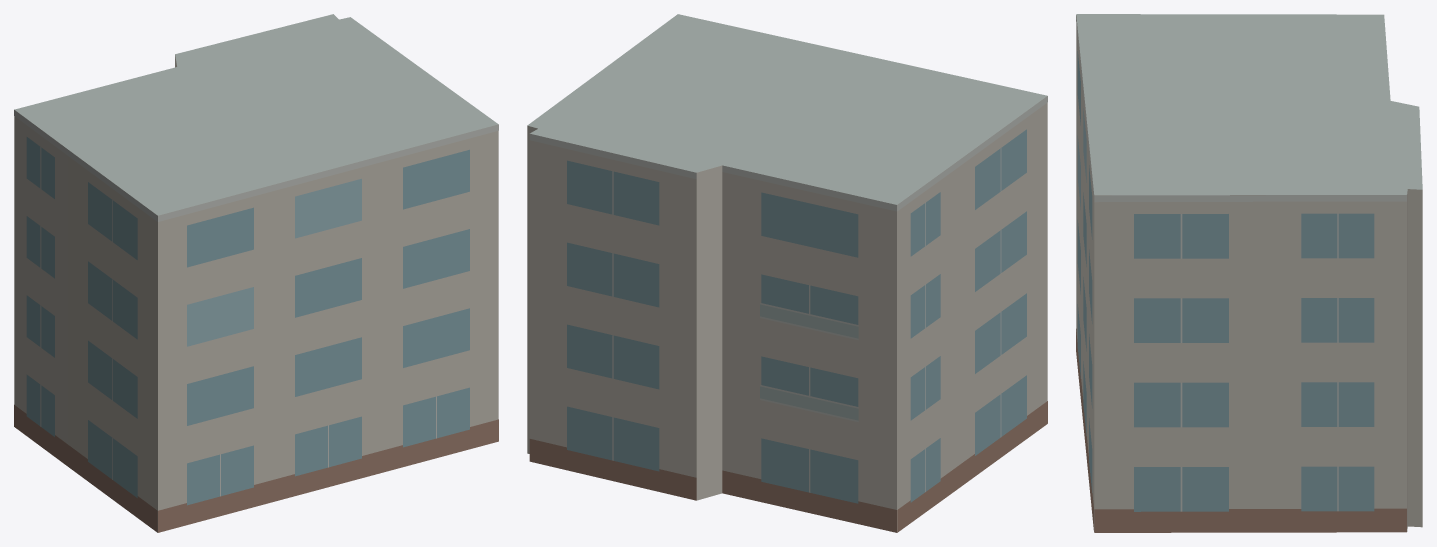
File: survey-upis-32927338.glb
3 views of the same model, side by side, from view 1: azimuth 30°, elevation 25°; view 2: azimuth 150°, elevation 25°; view 3: azimuth 270°, elevation 25° (orthographic). The views are drawn at different scales.
Visible parts, largest first — view 1: survey-upis-32927338.tmp; view 2: survey-upis-32927338.tmp; view 3: survey-upis-32927338.tmp.
Part boxes in pixels (bbox=[...]): survey-upis-32927338.tmp: bbox=[14, 14, 498, 532]; survey-upis-32927338.tmp: bbox=[527, 14, 1047, 532]; survey-upis-32927338.tmp: bbox=[1076, 14, 1422, 532].
Bounding box in the file's own units: 14.07 × 12.2 × 11.36.
